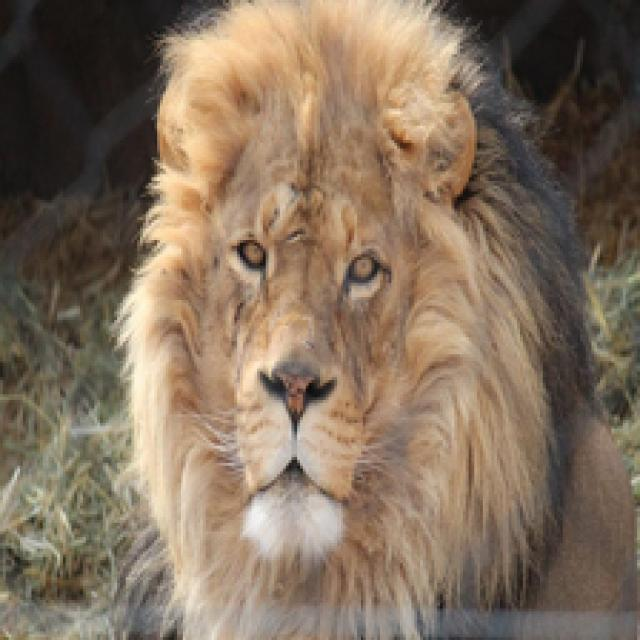lion: (105, 0, 608, 640)
